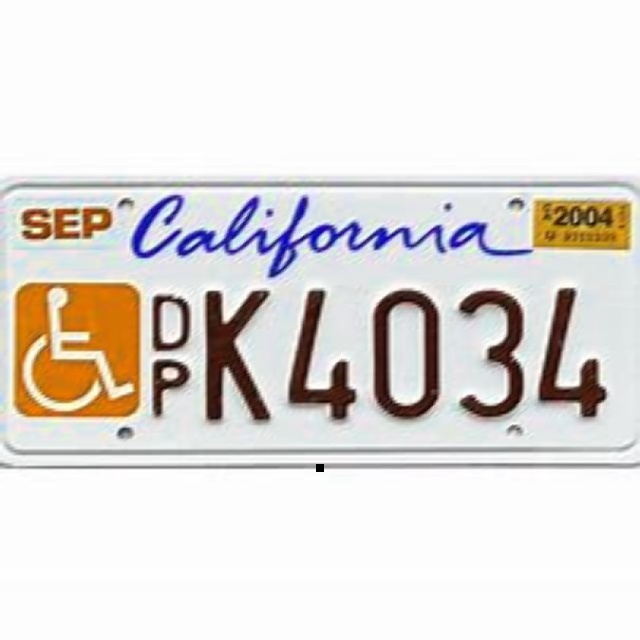ISA: (21, 286, 133, 414)
